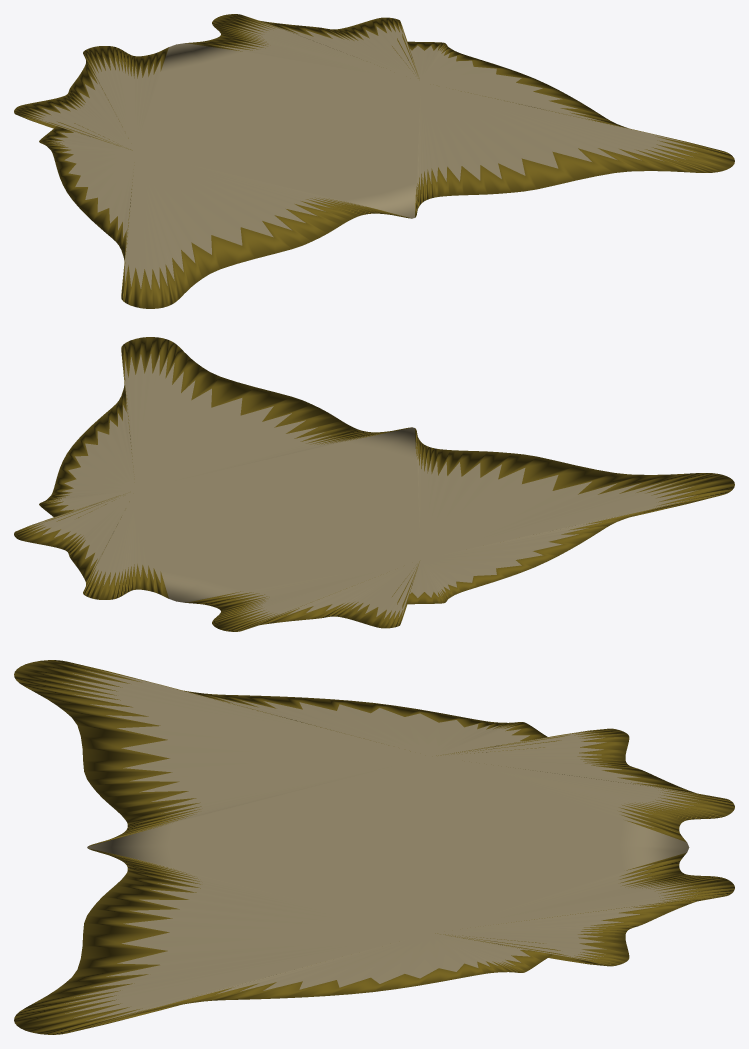
The picture shows the model from 3 angles, top to bottom: view 1: azimuth 30°, elevation 25°; view 2: azimuth 150°, elevation 25°; view 3: azimuth 270°, elevation 25°; orthographic projection. The views are drawn at different scales.
Parts seen in each view (by area): view 1: pCube2; view 2: pCube2; view 3: pCube2.
Part boxes in pixels (x1,y1,x2,y2): pCube2: [14, 14, 734, 308]; pCube2: [14, 337, 734, 631]; pCube2: [14, 660, 734, 1034].
Bounding box in the file's own units: 2.21 × 0.015 × 1.8.
